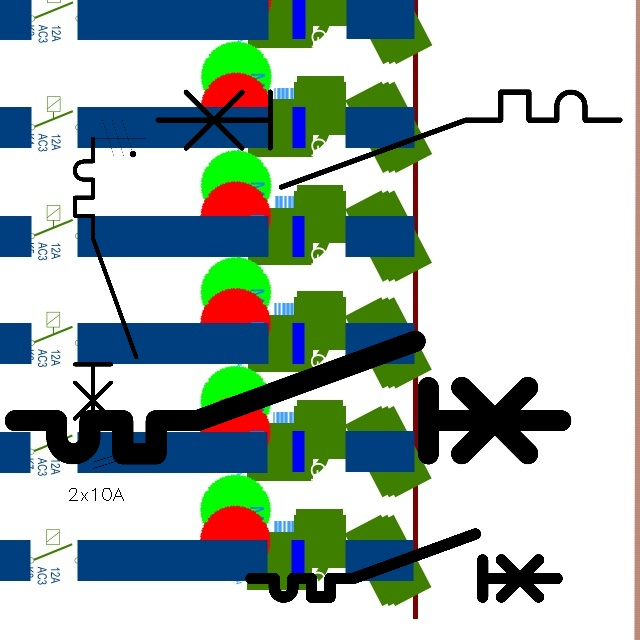interruptor_termomagnetico: (1, 327, 575, 468), (146, 80, 632, 199), (243, 526, 565, 605), (67, 131, 143, 444)
